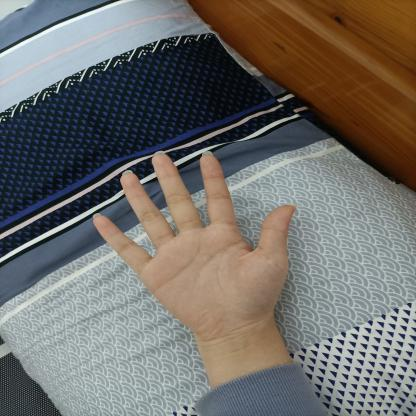bare_hand: (76, 135, 309, 338)
